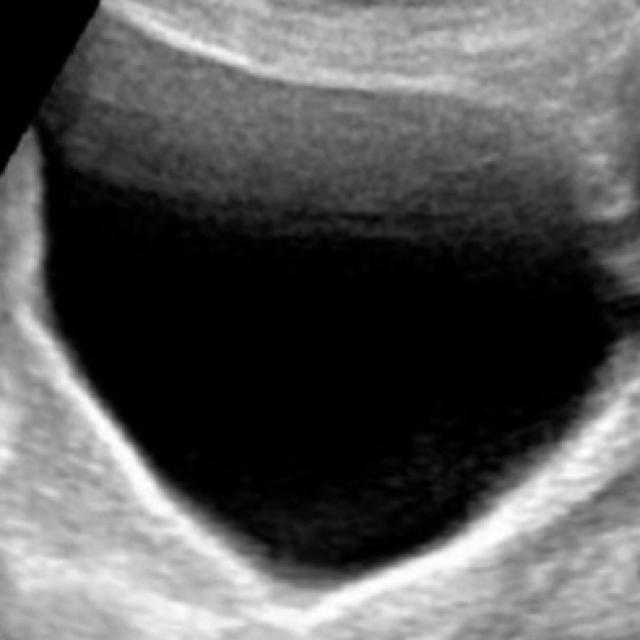bladder: (15, 0, 634, 632)
